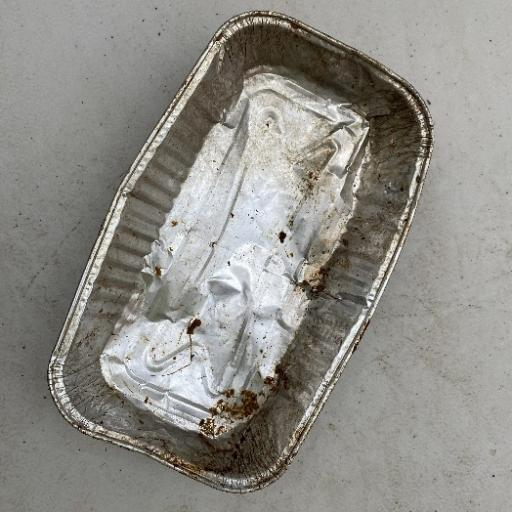Metal: (45, 10, 435, 494)
